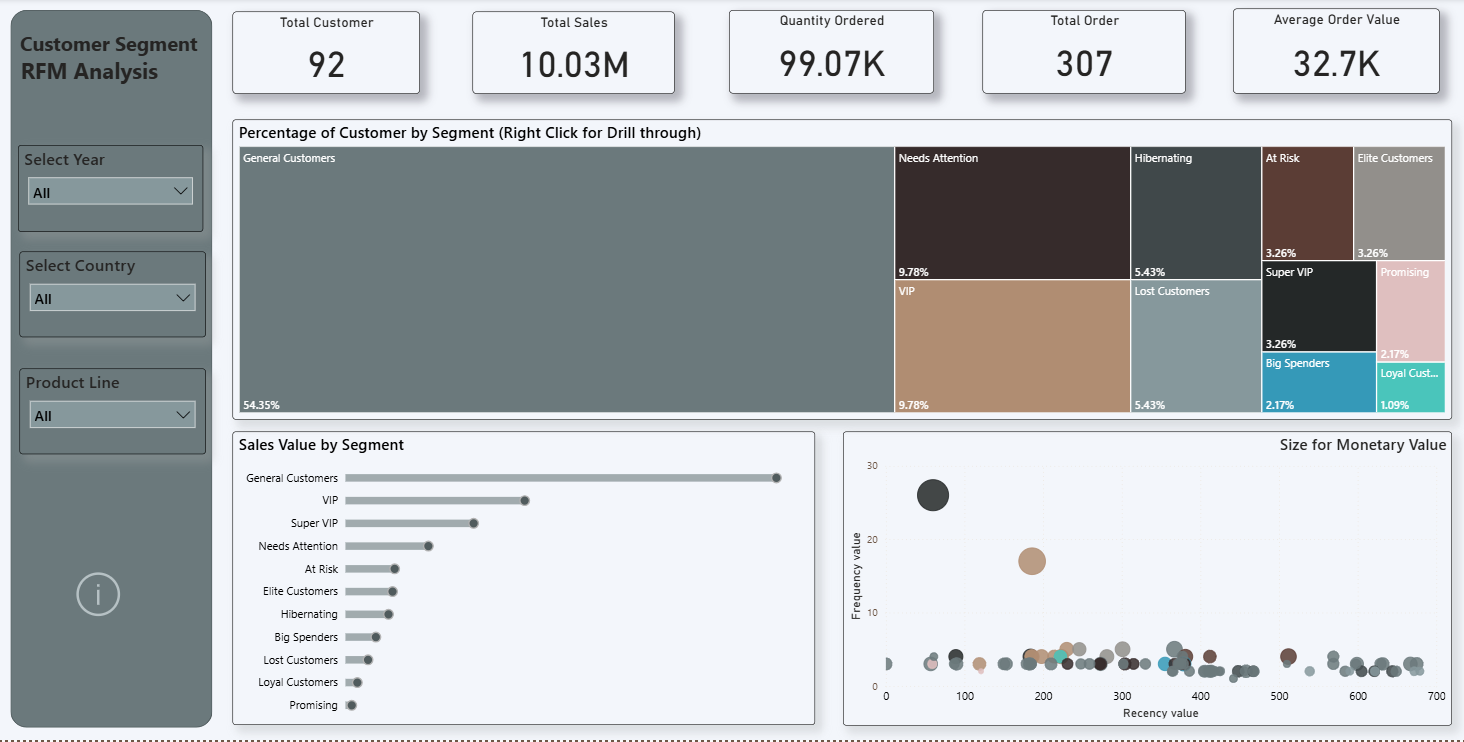

The dashboard page shown, as its layout file describes it:
{"tool":"powerbi","page":{"name":"RFM ","canvas":[1800,900],"ordinal":1},"visuals":[{"type":"shape","box":[16.2,14.2,244.9,870.3],"z":0},{"type":"treemap","title":"Percentage of Customer by Segment (Right Click for Drill through)","fields":{"Group":["rfm_view_data.Customer_Segment"],"Values":["_Dax.Customer Percentage"]},"box":[285.7,147.4,1479.2,363.9],"z":1000},{"type":"scatterChart","title":"Size for Monetary Value","fields":{"X":["rfm view data.recency_value"],"Y":["rfm_view_data.frequency_value"],"Size":["Sum(rfm_view_data.monetary_value)"],"Series":["rfm_view_data.Customer_Segment"],"Category":["rfm_view_data.CUSTOMERNAME"]},"box":[1026.2,525.8,738.7,356.6],"z":2000},{"type":"barChart","fields":{"Y":["_Dax.Total Sale"],"Category":["rfm_view_data.Customer_Segment"]},"box":[285.4,526.2,706.4,356.2],"z":3000},{"type":"textbox","box":[16.4,14.6,245.6,163.8],"z":5000},{"type":"slicer","title":"Select Year","fields":{"Values":["Query1.Year"]},"box":[26.3,178.1,224.7,105.2],"z":6000},{"type":"card","title":"Total Customer","fields":{"Values":["_Dax.Total Customer"]},"box":[285.7,16.4,227.4,100.1],"z":7000},{"type":"card","title":"Total Sales","fields":{"Values":["_Dax.Total Sale"]},"box":[576.8,16.4,245.6,100.1],"z":8000},{"type":"card","title":"Quantity Ordered","fields":{"Values":["_Dax.Total Quantity"]},"box":[888.6,14.2,249,101.2],"z":9000},{"type":"card","title":"Total Order","fields":{"Values":["_Dax.Total Order"]},"box":[1195.2,14.2,246.9,101.2],"z":10000},{"type":"card","title":"Average Order Value","fields":{"Values":["_Dax.AVG Order Value"]},"box":[1499.8,12.1,251,103.2],"z":11000},{"type":"actionButton","box":[89.2,689.6,112.8,67.3],"z":12000},{"type":"slicer","title":"Select Country","fields":{"Values":["rfm_view_data.COUNTRY"]},"box":[26.6,307.9,225.9,104.1],"z":13000},{"type":"slicer","title":"Product Line","fields":{"Values":["rfm_view_data.PRODUCTLINE"]},"box":[26.6,449.6,225.9,104.1],"z":14000}]}

Visuals, with their boxes in screenshot pixels (x1, y1, x2, y2), scaled from the page's 1800x900 canvas onto the 1464x742 screenshot:
shape: 13 12 212 729
"Percentage of Customer by Segment (Right Click for Drill through)" treemap: 232 122 1435 422
"Size for Monetary Value" scatterChart: 835 433 1435 727
barChart - _Dax.Total Sale x rfm_view_data.Customer_Segment: 232 434 807 727
textbox: 13 12 213 147
"Select Year" slicer: 21 147 204 234
"Total Customer" card: 232 14 417 96
"Total Sales" card: 469 14 669 96
"Quantity Ordered" card: 723 12 925 95
"Total Order" card: 972 12 1173 95
"Average Order Value" card: 1220 10 1424 95
actionButton: 73 569 164 624
"Select Country" slicer: 22 254 205 340
"Product Line" slicer: 22 371 205 456
